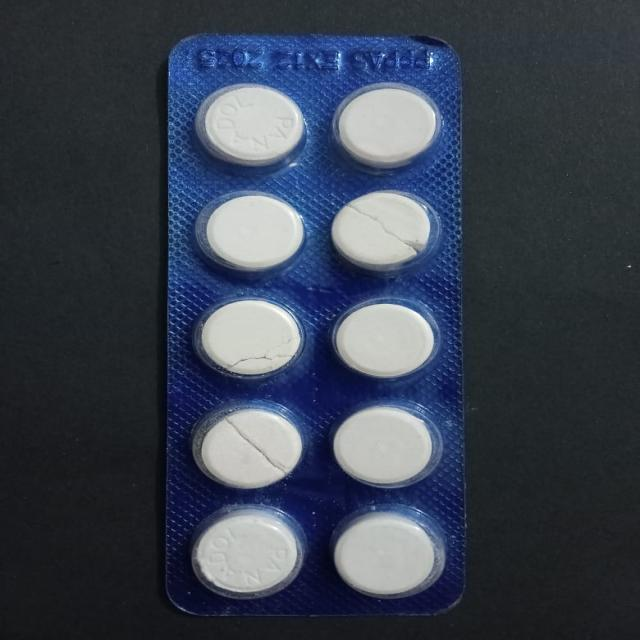defect: (187, 399, 313, 492), (326, 186, 442, 276), (194, 296, 306, 383)
